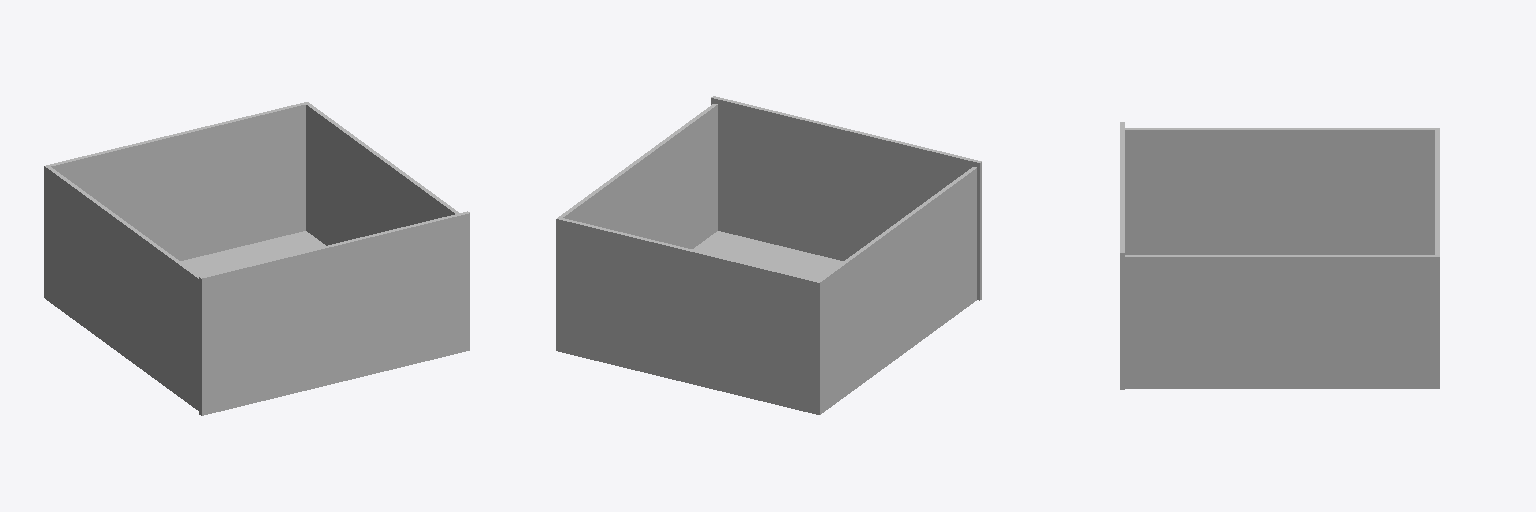
Rendered from night_cozy_drawer1.obj.
3 renders of one model, left to right at view 1: azimuth 30°, elevation 25°; view 2: azimuth 150°, elevation 25°; view 3: azimuth 270°, elevation 25°, orthographic.
Parts seen in each view (by area): view 1: Cube.038; view 2: Cube.038; view 3: Cube.038.
Part boxes in pixels (left/top/right/bottom): Cube.038: left=44, top=102, right=469, bottom=415; Cube.038: left=556, top=96, right=981, bottom=414; Cube.038: left=1120, top=122, right=1439, bottom=389.
Bounding box in the file's own units: 0.4653 × 0.2273 × 0.48.